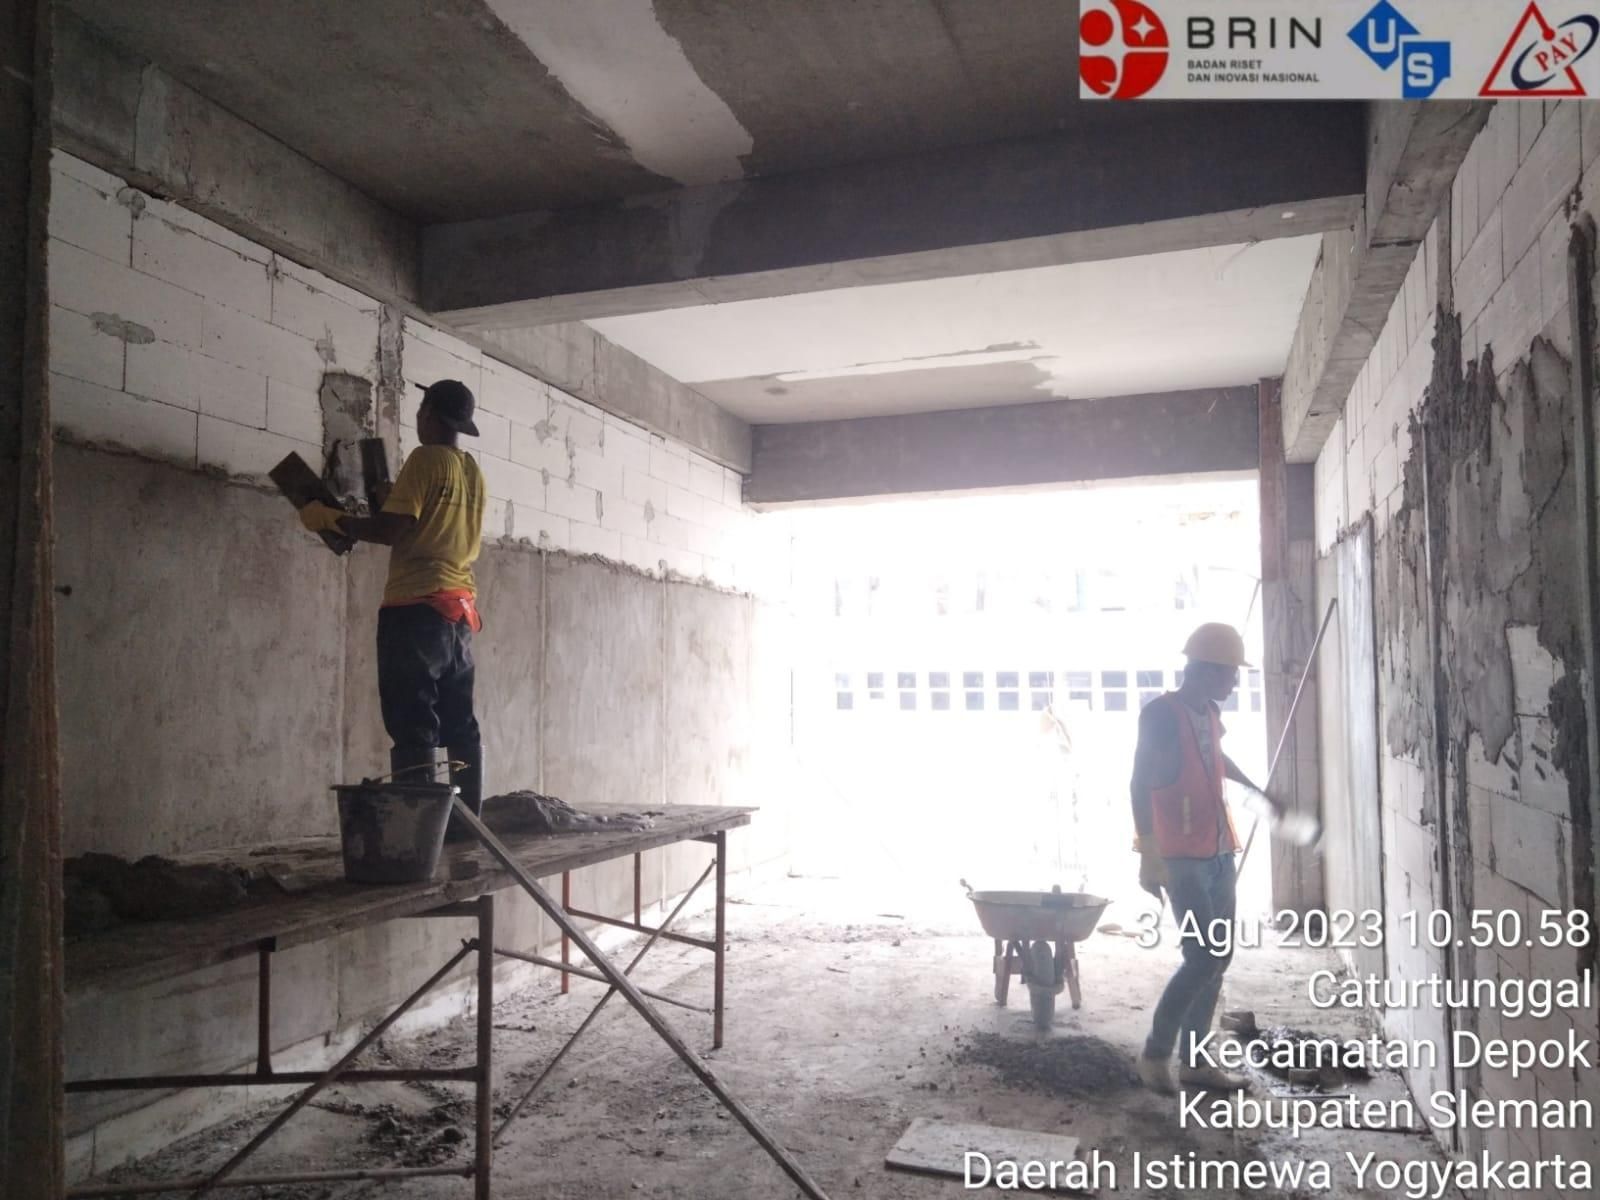hat: (404, 324, 524, 464), (1154, 591, 1284, 714)
no vest: (391, 434, 514, 614)
vest: (1114, 684, 1311, 914)
